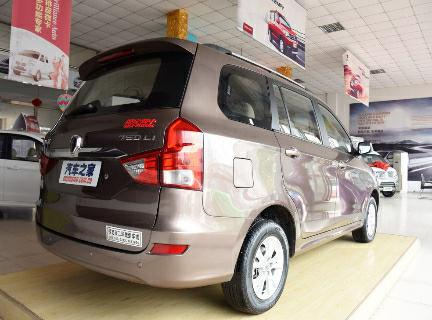金杯-华晨金杯-750: (28, 39, 388, 317)
